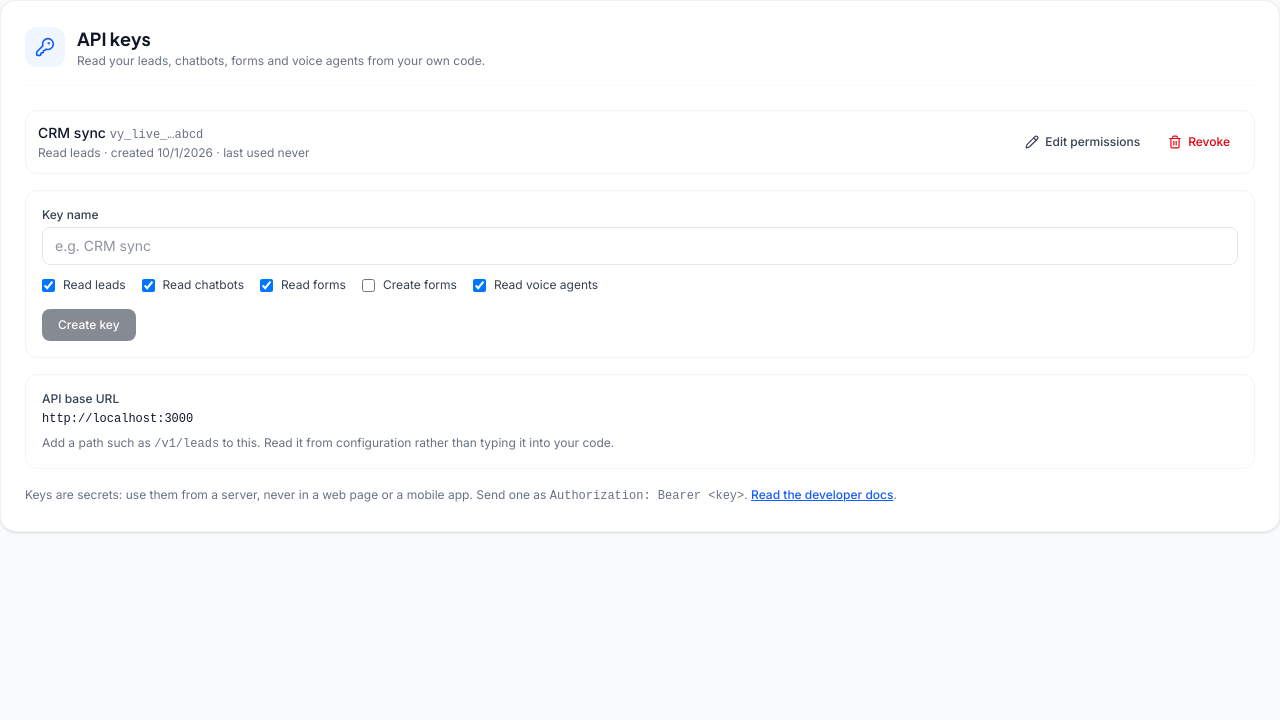
Test: ApiKeysSection › adds a permission to an existing key and keeps the same key
Expected: the text "CRM sync" is shown, [38,124,106,141]
Click the button "Edit permissions". click: [1083, 142]
box: [1013,128,1152,156]
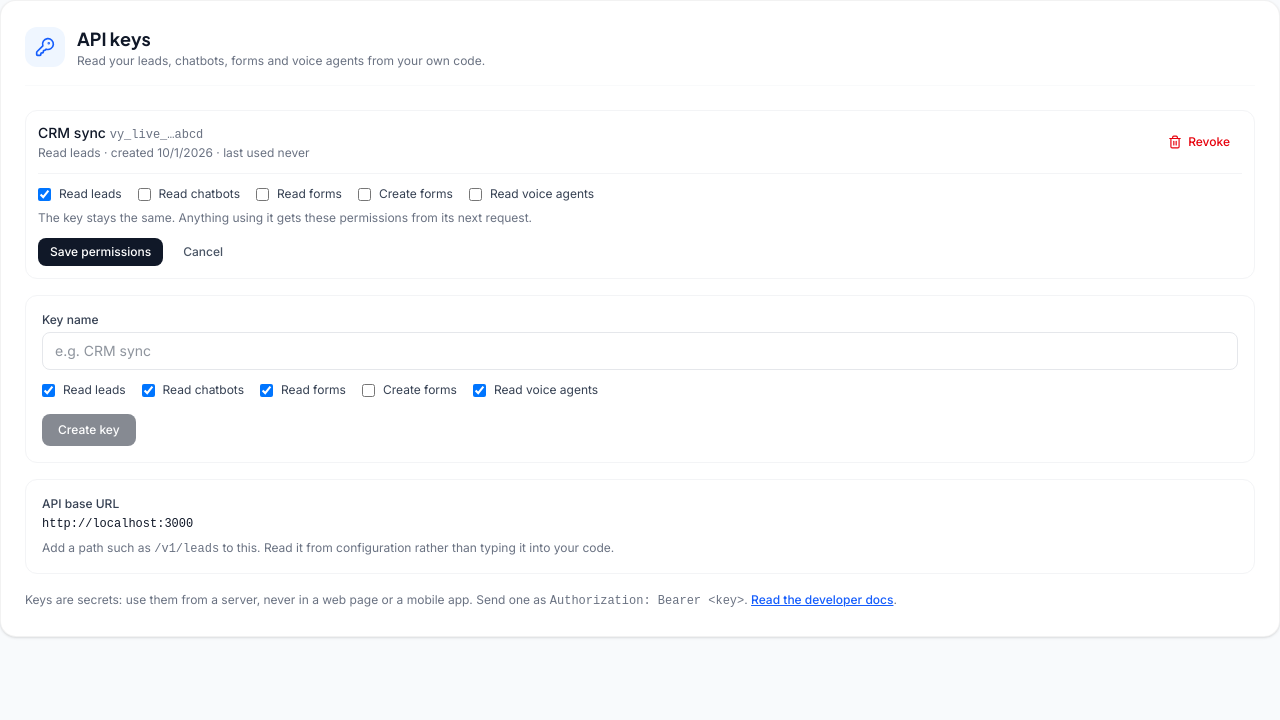
Expected: the checkbox labelled "Read leads" below "· created" is checked, [38,188,51,200]
Click the checkbox labelled "Create forms" below "· created". click: [364, 194]
box: [358,188,371,200]
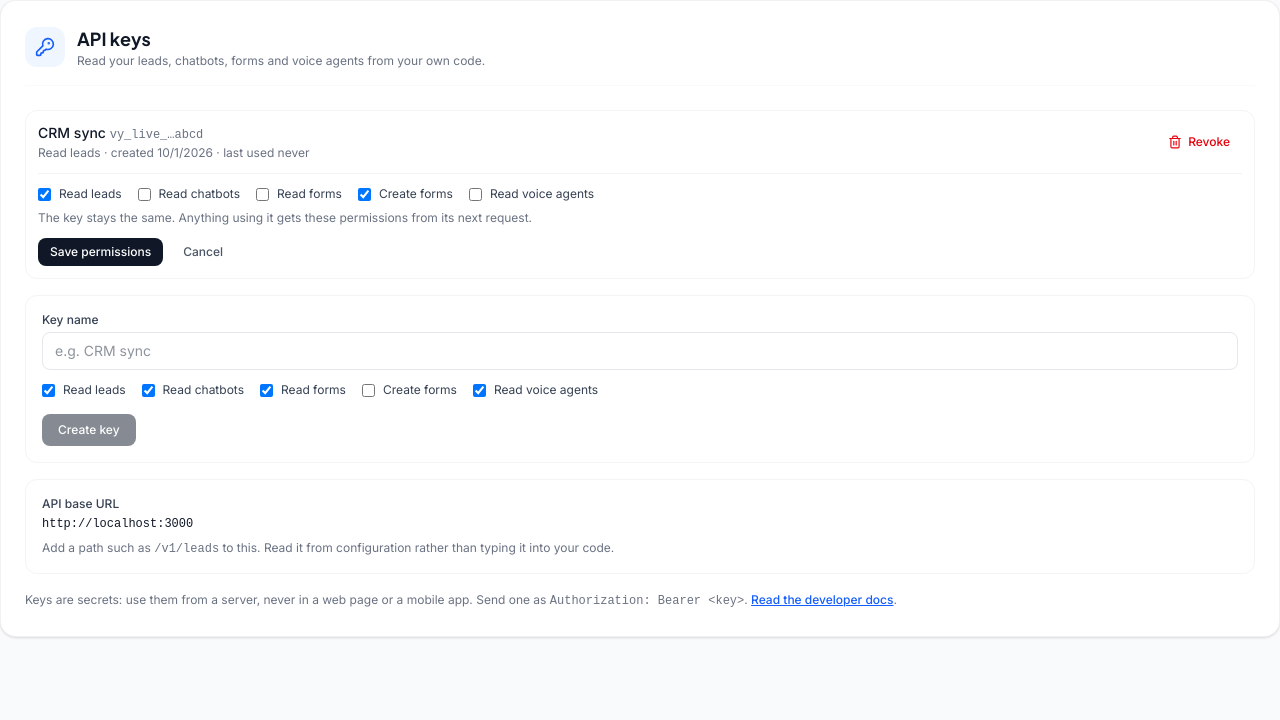
Click the button "Save permissions". click: [101, 252]
box: [38,238,163,266]
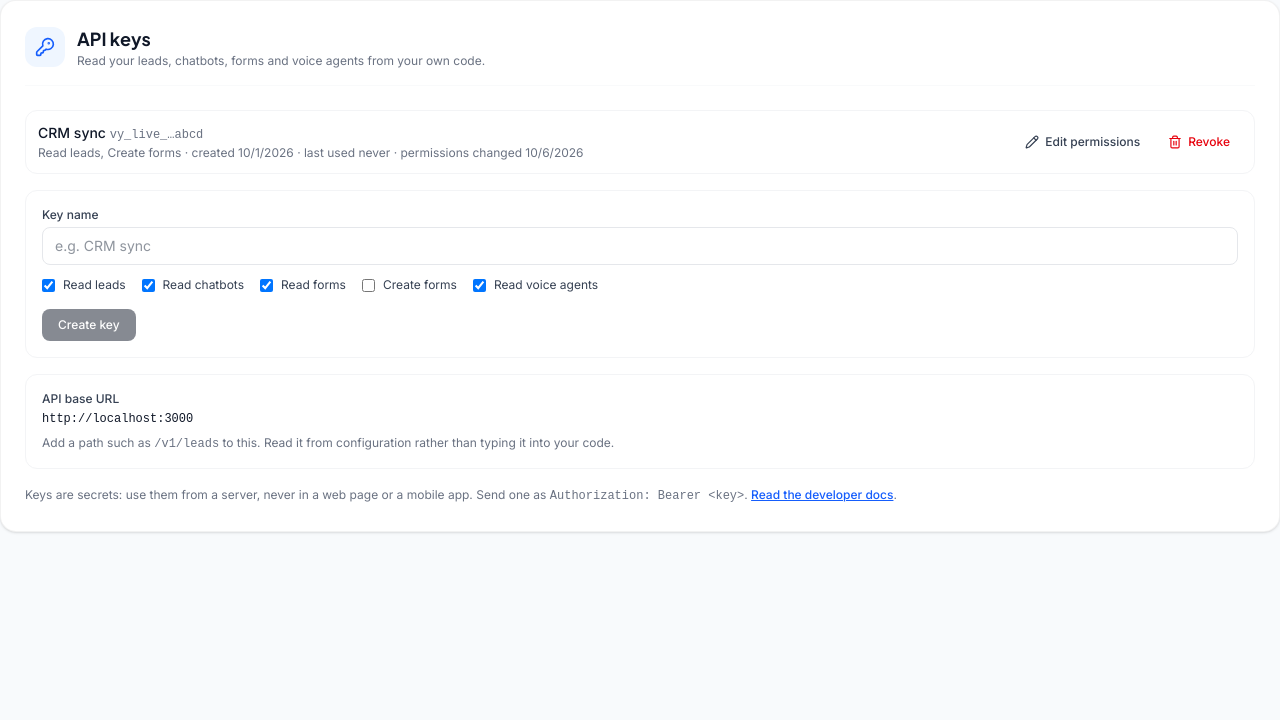
Expected: the text "vy_live_…abcd" is shown, [110,128,203,142]
Expected: the text "Read leads, Create forms" is shown, [38,145,181,160]
